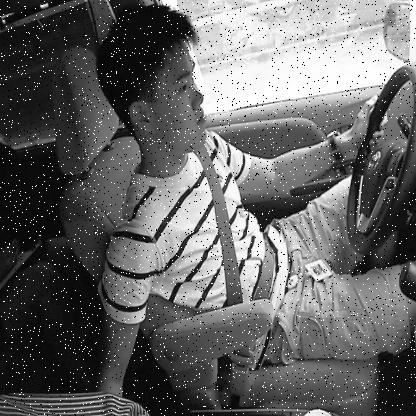seatbelt: (80, 0, 252, 277)
